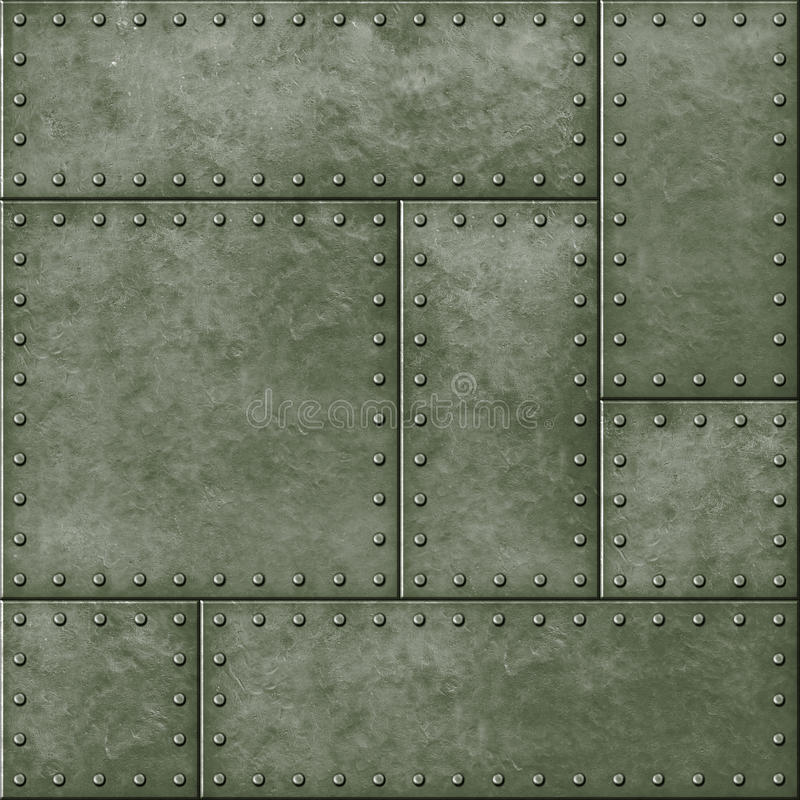rivet: (770, 11, 789, 30), (250, 610, 268, 629), (570, 770, 588, 788), (370, 611, 388, 629), (11, 371, 28, 390), (410, 212, 429, 229), (731, 411, 748, 429), (771, 452, 788, 470), (770, 492, 787, 510), (730, 13, 748, 30), (690, 771, 707, 789), (730, 770, 748, 787), (690, 611, 707, 629), (530, 611, 548, 628), (331, 612, 349, 629), (133, 610, 150, 628), (11, 490, 28, 508), (370, 491, 388, 508), (572, 412, 589, 430), (650, 573, 667, 590), (769, 691, 786, 708), (770, 612, 787, 629), (730, 611, 747, 628), (610, 611, 627, 628), (571, 611, 588, 628), (12, 611, 29, 628), (571, 451, 588, 468), (12, 13, 29, 30), (692, 411, 708, 429), (772, 92, 788, 110), (651, 13, 667, 31), (611, 771, 627, 789), (531, 771, 547, 789), (410, 612, 428, 628), (331, 772, 349, 788), (291, 771, 307, 789), (12, 650, 28, 668), (411, 533, 429, 549), (412, 490, 428, 508), (171, 12, 189, 28), (770, 572, 787, 588), (612, 532, 628, 549), (612, 493, 628, 510), (771, 372, 787, 389), (611, 292, 628, 308), (771, 131, 787, 148), (611, 92, 628, 108), (611, 52, 627, 69), (771, 52, 787, 69), (690, 13, 706, 30), (611, 14, 628, 30), (770, 772, 787, 788), (771, 651, 787, 668), (451, 612, 467, 629), (371, 772, 387, 789), (251, 771, 267, 788), (212, 612, 228, 629), (172, 691, 188, 708), (53, 612, 69, 629), (12, 691, 28, 708), (13, 292, 29, 309), (13, 531, 29, 548), (12, 570, 28, 587), (571, 533, 587, 550), (572, 491, 588, 508), (411, 452, 428, 468), (571, 253, 588, 269), (411, 333, 428, 349), (371, 251, 388, 267), (132, 12, 149, 28), (652, 412, 667, 430), (92, 771, 107, 789), (172, 731, 187, 749), (731, 573, 747, 589), (691, 573, 707, 589), (612, 574, 628, 590), (771, 291, 787, 307), (770, 171, 786, 187), (649, 612, 665, 628), (292, 612, 308, 628), (212, 772, 228, 788), (212, 732, 228, 748), (213, 652, 229, 668), (172, 773, 188, 789), (172, 611, 188, 627), (12, 332, 28, 348), (52, 571, 68, 587), (92, 572, 108, 588), (212, 572, 228, 588), (572, 572, 588, 588), (571, 293, 587, 309), (572, 213, 588, 229), (532, 213, 548, 229), (492, 213, 508, 229), (451, 172, 467, 188), (490, 172, 506, 188), (571, 172, 587, 188), (571, 92, 587, 108), (570, 13, 586, 29), (491, 13, 507, 29), (450, 12, 466, 28), (211, 13, 227, 29), (771, 413, 786, 430), (611, 453, 628, 468), (771, 731, 786, 748), (491, 612, 506, 629), (93, 612, 108, 629), (13, 452, 28, 469), (414, 252, 429, 269), (410, 14, 427, 29), (91, 212, 108, 227), (612, 211, 626, 229), (171, 572, 189, 586), (771, 533, 786, 549), (611, 413, 627, 428), (611, 332, 626, 348), (771, 252, 786, 268), (611, 252, 627, 267), (612, 133, 628, 148), (450, 772, 465, 788), (212, 692, 227, 708), (52, 772, 67, 788), (133, 772, 148, 788), (13, 731, 28, 747), (13, 412, 28, 428), (133, 572, 148, 588), (492, 572, 507, 588), (532, 572, 548, 587), (372, 531, 387, 547), (572, 372, 587, 388), (572, 332, 587, 348), (371, 373, 387, 388), (414, 373, 429, 389), (372, 332, 387, 348), (372, 293, 387, 309), (451, 214, 467, 229), (532, 173, 548, 188), (571, 132, 586, 148), (570, 52, 585, 68), (532, 13, 547, 29), (372, 13, 387, 29), (372, 213, 387, 229), (332, 213, 347, 229), (212, 213, 228, 228), (211, 172, 226, 188), (332, 13, 348, 28), (291, 13, 306, 29), (13, 253, 28, 269), (51, 213, 67, 228), (172, 174, 188, 189), (132, 173, 148, 188), (91, 173, 107, 188), (52, 172, 67, 188), (12, 173, 27, 189), (612, 171, 626, 188), (412, 772, 426, 789), (13, 770, 27, 787), (413, 412, 427, 429), (652, 770, 665, 788), (692, 372, 707, 387), (251, 573, 266, 588), (371, 573, 386, 588), (452, 573, 467, 588), (412, 173, 427, 188), (372, 173, 387, 188), (332, 174, 347, 189), (291, 213, 306, 228), (291, 173, 306, 188), (252, 13, 267, 28), (133, 212, 148, 227), (13, 132, 28, 147), (14, 94, 29, 109), (612, 373, 628, 387), (491, 772, 505, 788), (414, 572, 428, 588), (413, 294, 427, 310), (12, 213, 28, 227), (334, 571, 347, 588), (772, 333, 786, 348), (292, 572, 306, 587), (372, 412, 386, 427), (252, 214, 267, 228), (252, 173, 266, 188), (13, 53, 27, 68), (52, 14, 67, 28), (773, 213, 786, 229), (173, 651, 186, 667), (733, 373, 747, 387), (651, 372, 665, 386), (372, 452, 385, 467), (173, 214, 188, 227), (95, 13, 107, 29)
